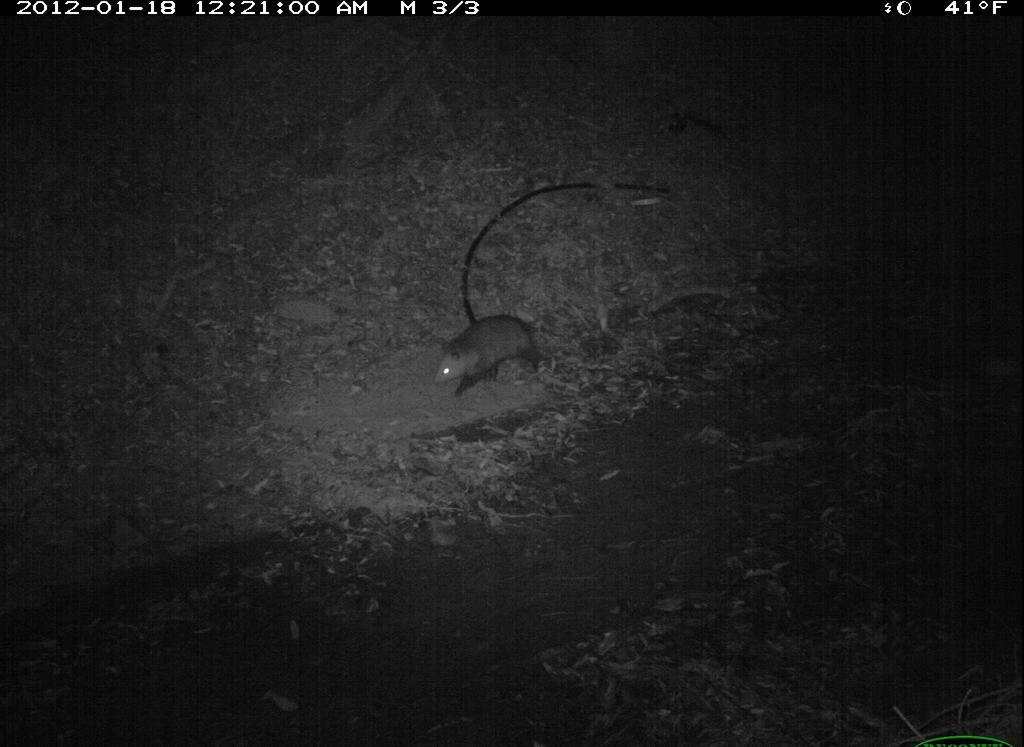opossum: (422, 300, 592, 410)
